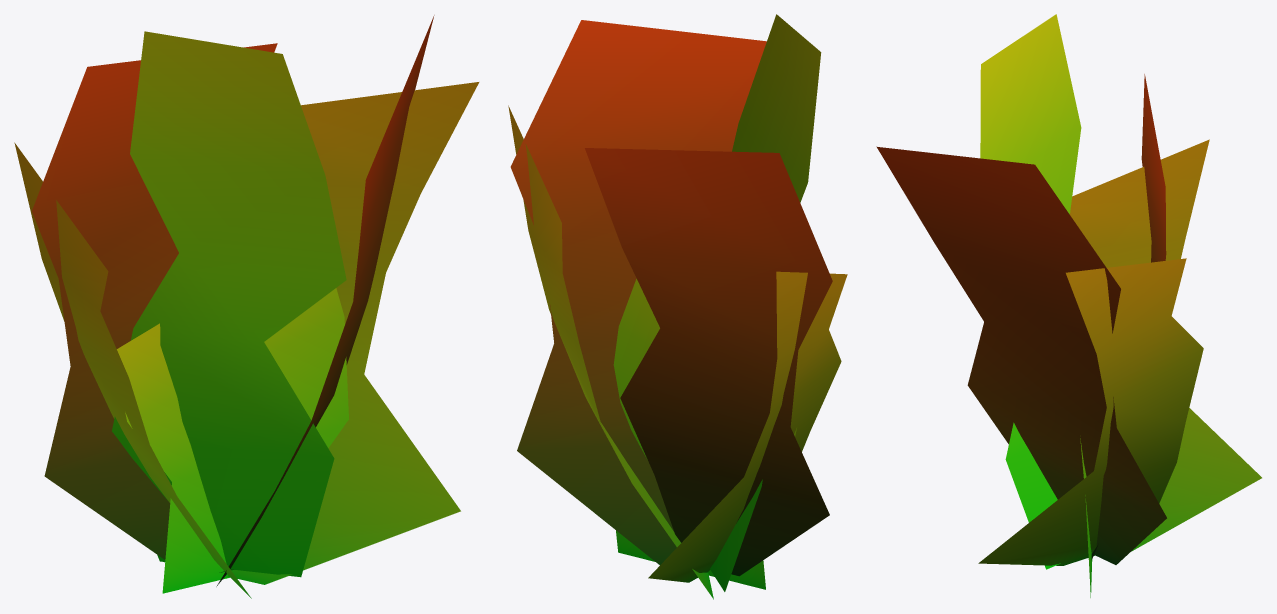
The model's file is Var8Hi24.fbx.
The picture shows the model from 3 angles, left to right: view 1: azimuth 30°, elevation 25°; view 2: azimuth 150°, elevation 25°; view 3: azimuth 270°, elevation 25°; orthographic projection. The views are drawn at different scales.
Visible parts, largest first — view 1: bend1; view 2: bend1; view 3: bend1.
Boxes of the visible parts, x1=… form: bend1: x1=14, y1=15, x2=479, y2=598; bend1: x1=508, y1=14, x2=847, y2=599; bend1: x1=876, y1=14, x2=1261, y2=597.
Size of the model in its own units: 1.26 by 1.76 by 1.23.
